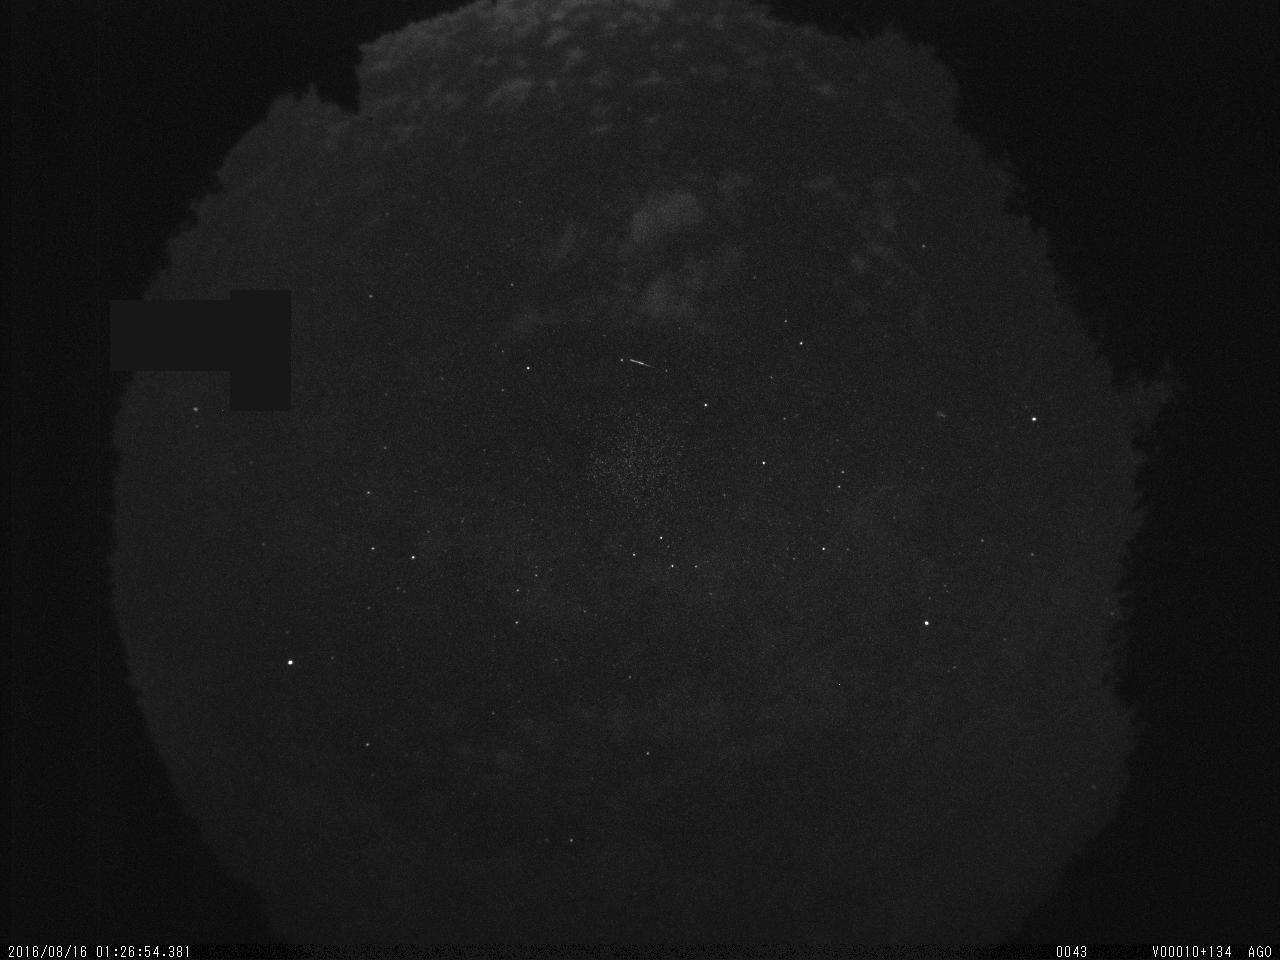Meteor: (622, 348, 656, 377)
